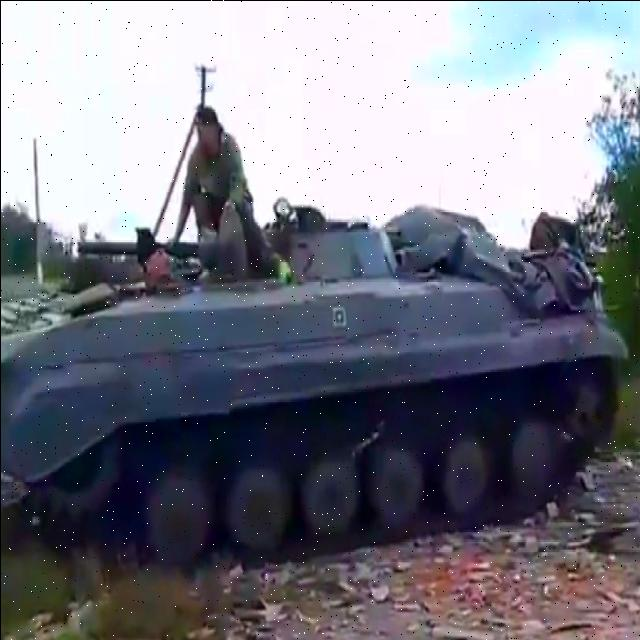APC-IFV: (0, 175, 621, 569)
